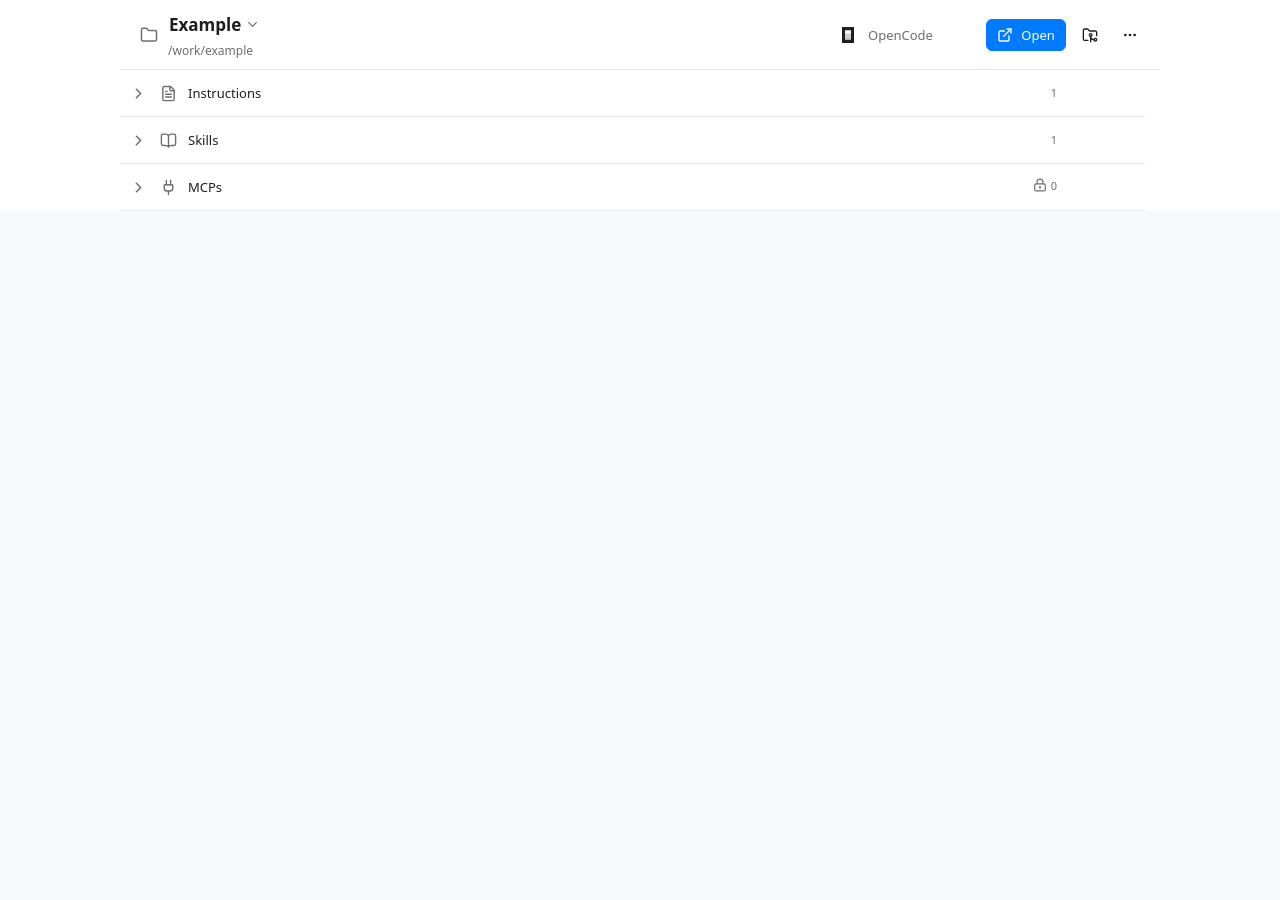
it: ProjectsWorkspace › opens instruction files in preview before entering the safe editor
The width and height of the screenshot is (1280, 900).
What coordinates should you click on to do the following:
click the button with aria-label "Expand Instructions"
I would click on:
 (225, 93)
Its box is [120,70,1067,116].
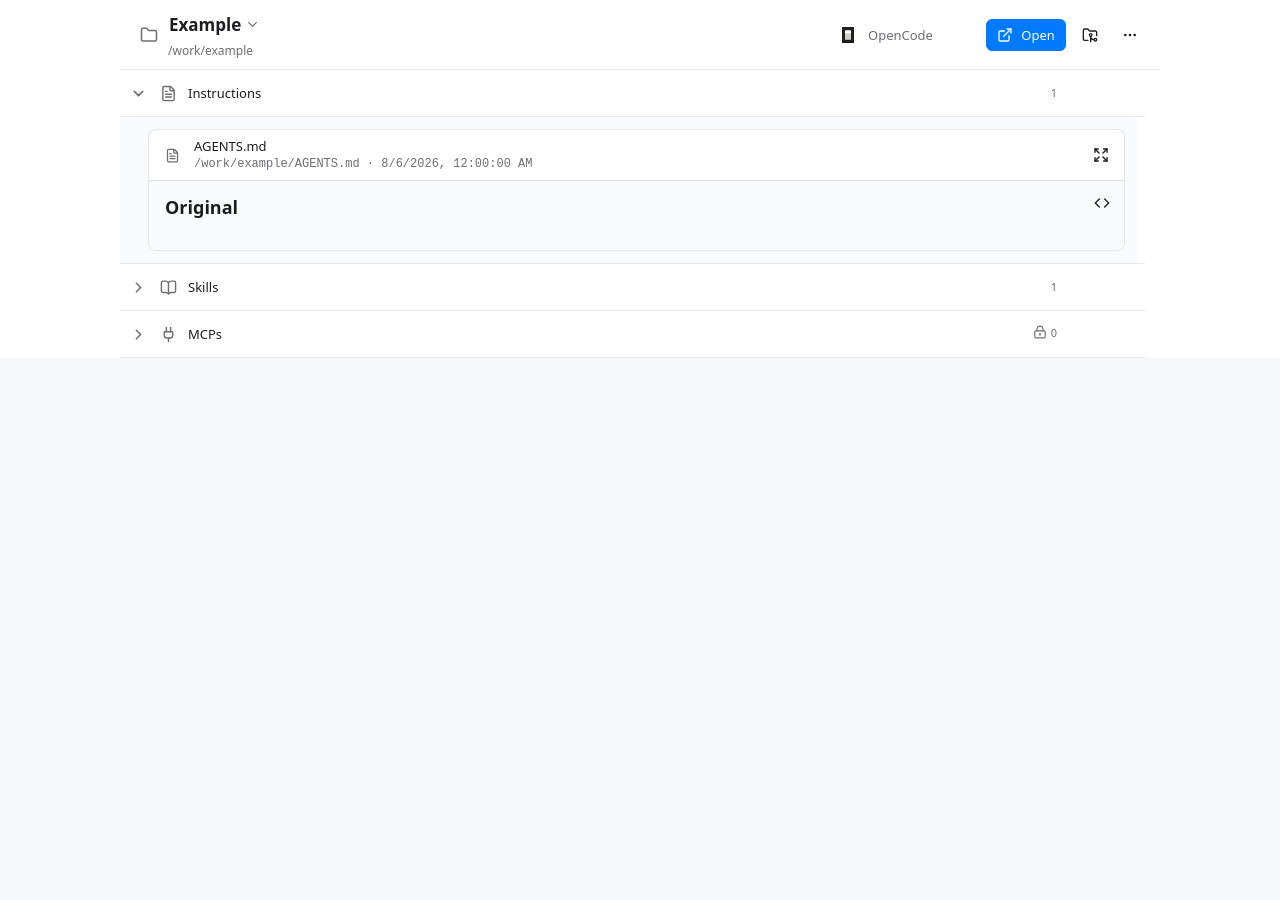
What coordinates should you click on to do the following:
click the button named "Open AGENTS.md"
I would click on:
 (1101, 155)
Its box is [1087,141,1115,169].
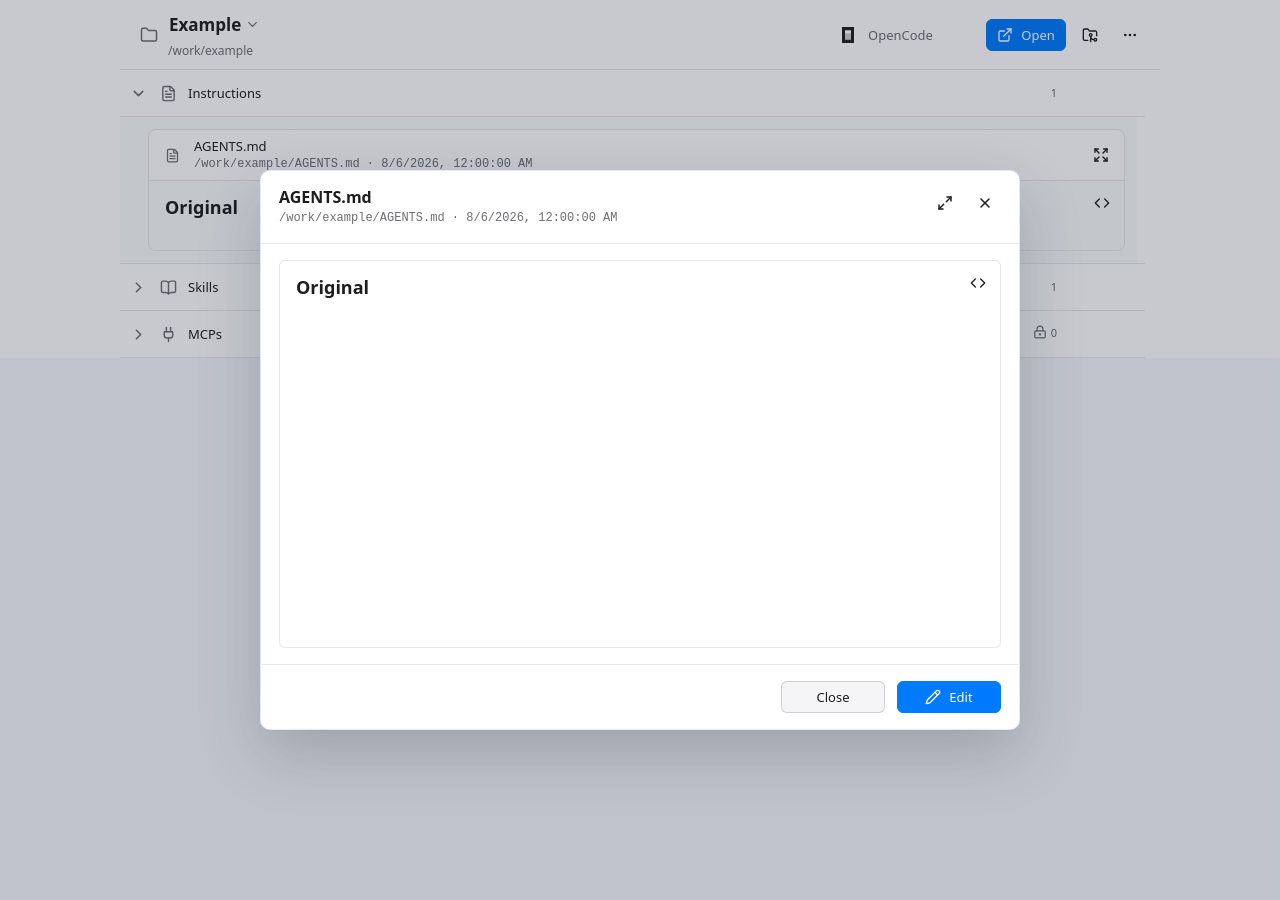
Check: the element named "Preview of AGENTS.md" reads "Original", box [296,275,369,299]
What coordinates should you click on to do the following:
click the button "Edit"
I would click on:
 (949, 697)
Its box is [897,681,1001,713].
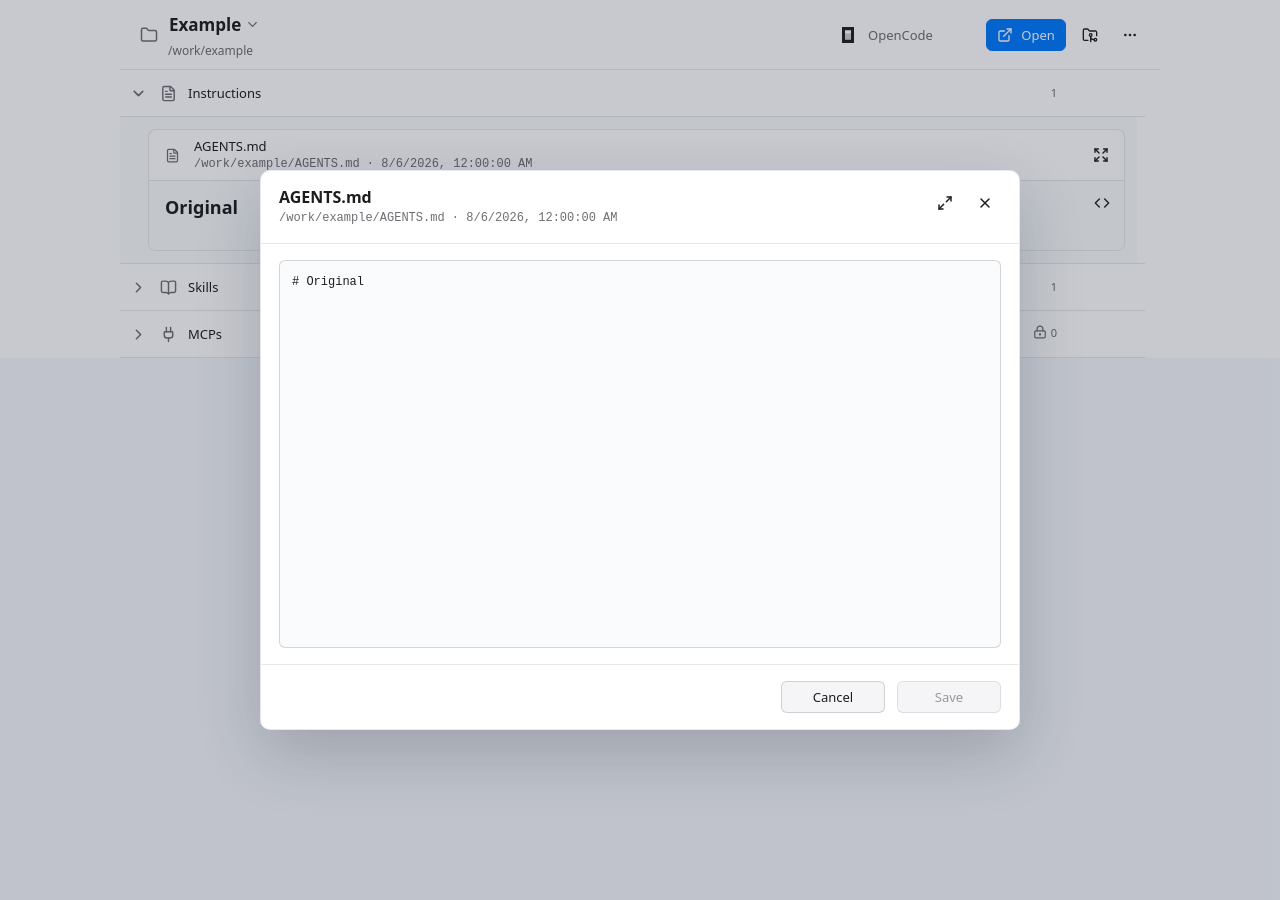
Check: the text box named "Workspace instruction content" is shown, box [280,261,1000,647]
